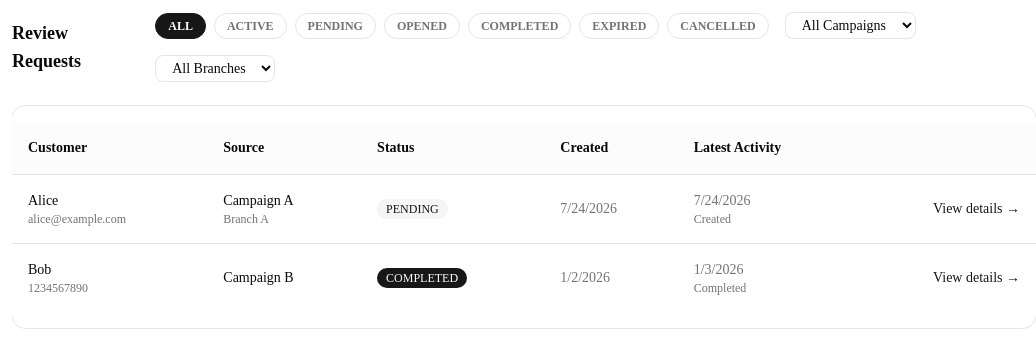
Test case: ReviewRequestTable › filters by campaign
Select "Campaign A" in the dropdown titled "Campaign" at (850, 26), box [785,12,916,39]
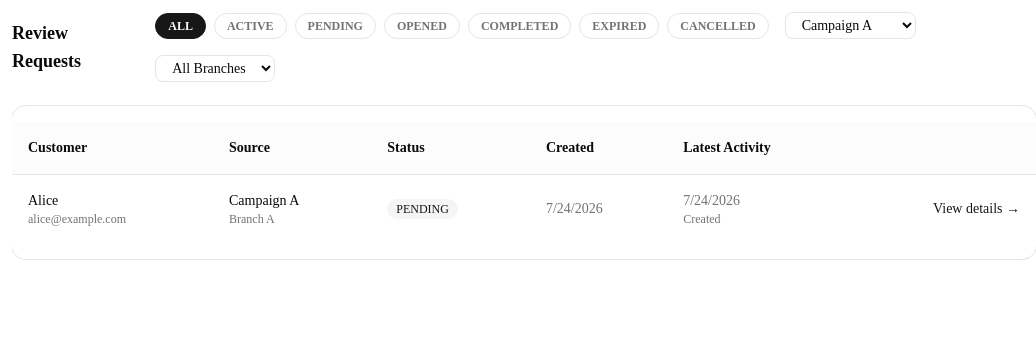
Expected: the text "Alice" is shown, [28,193,58,208]
Expected: the text "Bob" is gone
